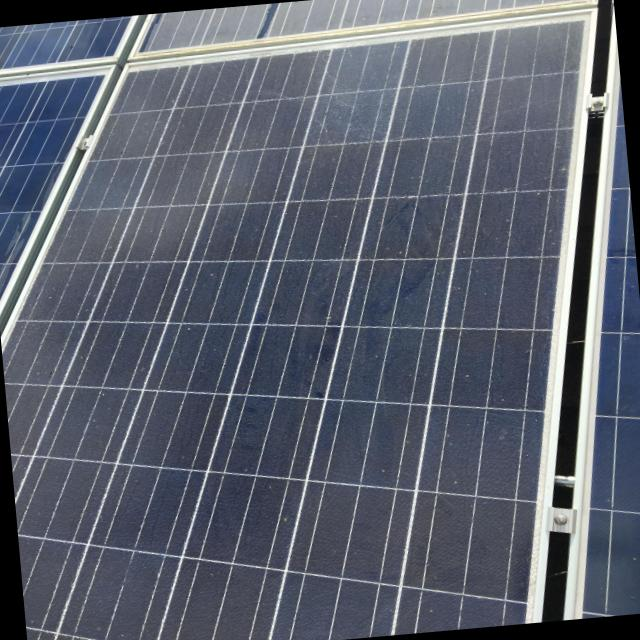faulty: (1, 27, 572, 640)
